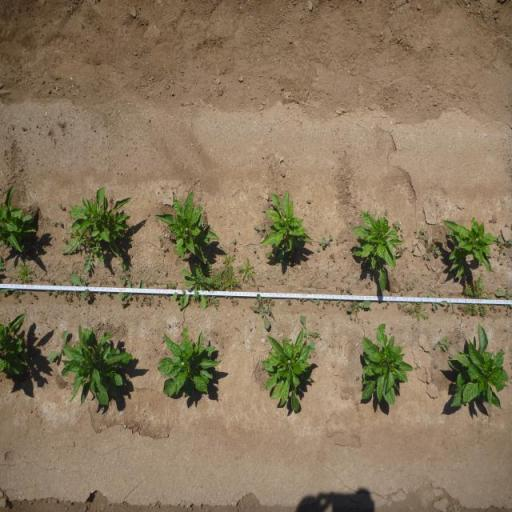plant: (66, 322, 133, 408), (452, 324, 508, 412), (157, 325, 221, 399), (360, 322, 414, 406), (261, 334, 309, 410), (75, 189, 130, 247), (352, 211, 396, 282), (442, 215, 494, 275), (165, 191, 208, 262), (264, 190, 314, 251), (0, 186, 38, 254), (0, 310, 30, 376)
weed: (180, 265, 211, 309), (463, 273, 492, 320), (63, 241, 104, 273), (252, 295, 276, 331), (206, 264, 224, 310), (48, 324, 67, 363), (300, 314, 320, 348), (71, 274, 91, 302), (224, 265, 242, 291), (407, 302, 430, 322), (423, 236, 442, 260), (238, 256, 255, 282), (16, 263, 35, 284), (266, 246, 285, 266), (346, 300, 372, 313), (428, 294, 446, 312), (433, 335, 451, 352), (497, 289, 512, 307), (120, 262, 130, 286), (296, 298, 320, 308), (118, 292, 132, 308), (497, 239, 512, 253), (0, 289, 23, 298), (174, 290, 184, 310), (141, 293, 153, 308), (63, 290, 75, 304), (222, 254, 236, 265), (228, 296, 239, 307), (202, 209, 208, 227), (318, 237, 328, 247), (396, 246, 406, 256), (253, 224, 265, 232), (400, 302, 409, 312), (166, 282, 177, 290), (322, 298, 332, 306), (54, 290, 63, 298), (106, 292, 114, 301), (157, 294, 169, 300), (394, 221, 402, 230), (52, 220, 62, 227), (156, 299, 162, 310), (328, 234, 333, 247), (329, 252, 335, 262), (339, 286, 345, 296), (365, 280, 371, 290), (446, 302, 452, 312), (57, 202, 65, 209), (286, 298, 292, 306), (62, 237, 68, 244), (434, 222, 441, 228), (32, 293, 38, 300), (497, 235, 502, 243), (406, 286, 414, 291), (346, 288, 352, 294), (335, 300, 341, 306), (446, 230, 452, 236), (56, 280, 62, 286), (133, 294, 138, 301), (49, 278, 54, 285), (413, 228, 418, 234), (419, 229, 426, 233), (253, 246, 257, 253), (256, 284, 260, 291), (411, 248, 416, 253), (355, 376, 360, 381), (158, 235, 162, 241), (163, 246, 167, 252), (232, 238, 236, 244), (448, 354, 454, 358), (386, 300, 390, 306), (264, 232, 268, 237), (349, 315, 353, 320), (104, 278, 107, 284), (46, 290, 50, 294), (433, 365, 438, 368), (497, 256, 500, 260), (500, 261, 504, 264), (336, 239, 338, 244), (344, 254, 346, 258)
